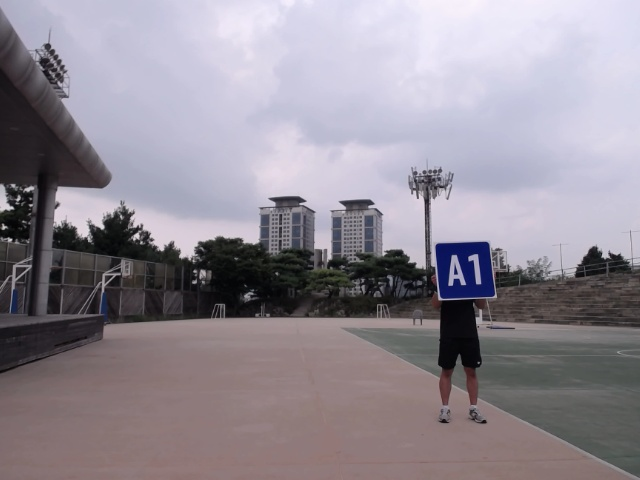delivery_a1: (435, 241, 496, 301)
